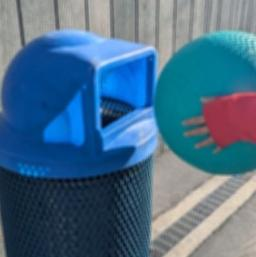algae: (152, 27, 256, 171)
